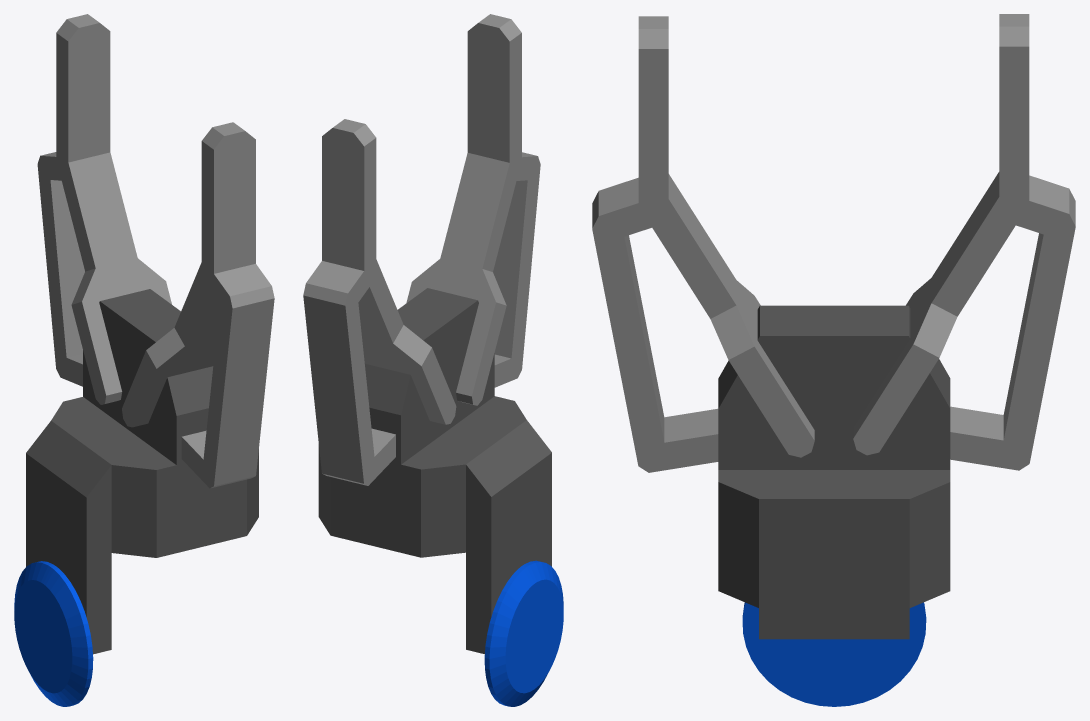
The model's file is arm_link_palm.dae.
3 renders of one model, left to right at view 1: azimuth 30°, elevation 25°; view 2: azimuth 150°, elevation 25°; view 3: azimuth 270°, elevation 25°, orthographic. The views are drawn at different scales.
Visible parts, largest first — view 1: 简化手掌, 简化手指.001, 简化手指, 大关节盖; view 2: 简化手掌, 简化手指, 简化手指.001, 大关节盖; view 3: 简化手掌, 简化手指.001, 简化手指, 大关节盖.
Boxes of the visible parts, x1=… form: 简化手掌: x1=26, y1=289, x2=258, y2=654; 简化手指.001: x1=122, y1=122, x2=274, y2=488; 简化手指: x1=37, y1=14, x2=171, y2=404; 大关节盖: x1=14, y1=561, x2=93, y2=706; 简化手掌: x1=318, y1=288, x2=551, y2=654; 简化手指: x1=303, y1=119, x2=456, y2=485; 简化手指.001: x1=406, y1=14, x2=540, y2=405; 大关节盖: x1=484, y1=560, x2=563, y2=706; 简化手掌: x1=718, y1=305, x2=950, y2=639; 简化手指.001: x1=592, y1=16, x2=814, y2=472; 简化手指: x1=853, y1=14, x2=1075, y2=470; 大关节盖: x1=742, y1=602, x2=926, y2=706.
Size of the model in its own units: 0.0881 by 0.1606 by 0.2737.
